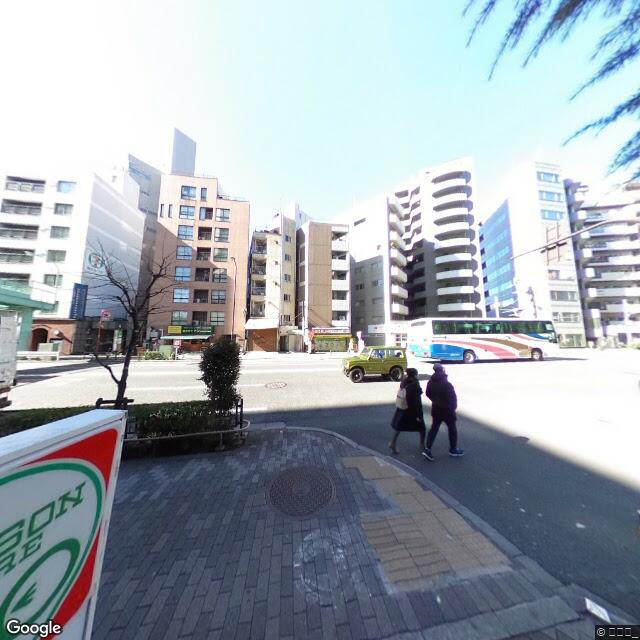lawson: (1, 453, 106, 611)
